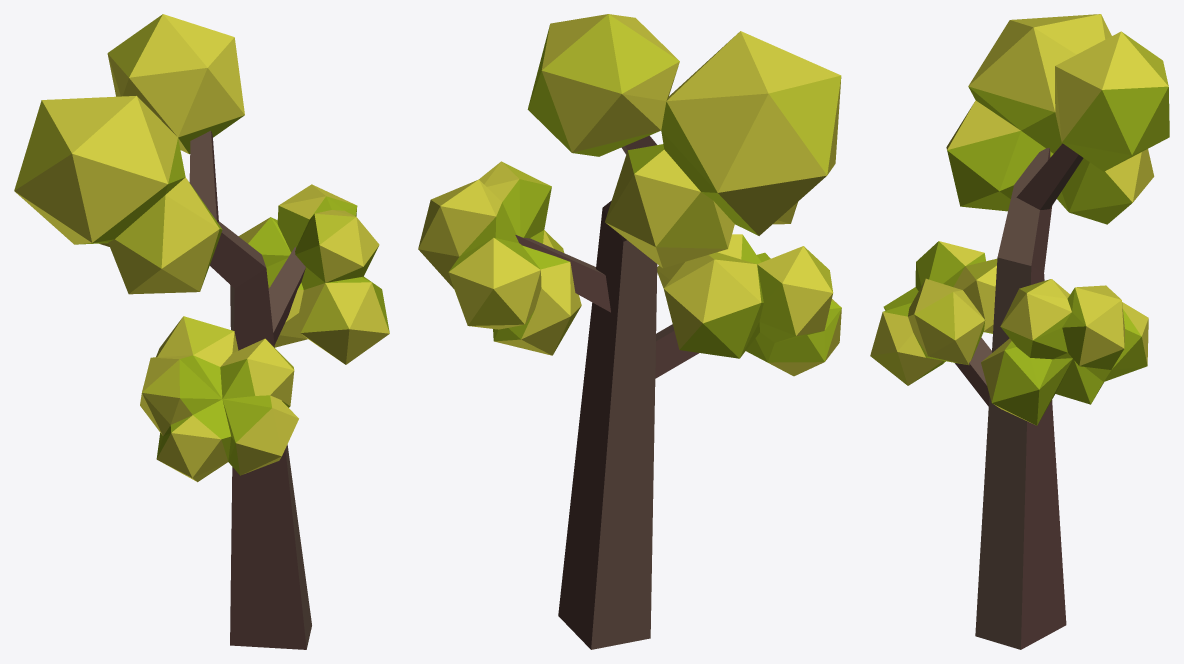
The model's file is TB_D_Env_TreeB_A.FBX.
3 views of the same model, side by side, from view 1: azimuth 30°, elevation 25°; view 2: azimuth 150°, elevation 25°; view 3: azimuth 270°, elevation 25° (orthographic). The views are drawn at different scales.
Visible parts, largest first — view 1: TB_D_Env_TreeB_A; view 2: TB_D_Env_TreeB_A; view 3: TB_D_Env_TreeB_A.
Boxes of the visible parts, box(x1,y1,x2,y2) form: TB_D_Env_TreeB_A: box(14, 14, 389, 649); TB_D_Env_TreeB_A: box(418, 14, 841, 649); TB_D_Env_TreeB_A: box(870, 14, 1169, 649).
Bounding box in the file's own units: 3.93 × 6.43 × 3.05.
